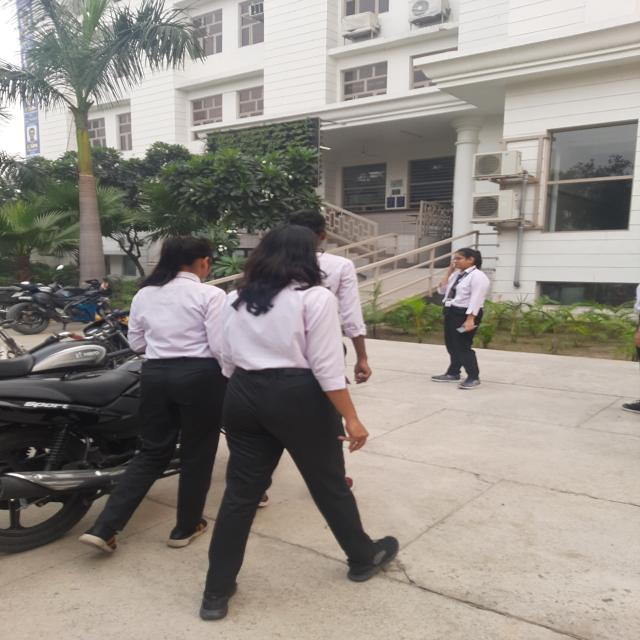unsafe: (210, 226, 398, 619), (86, 235, 221, 554), (436, 246, 488, 392)
